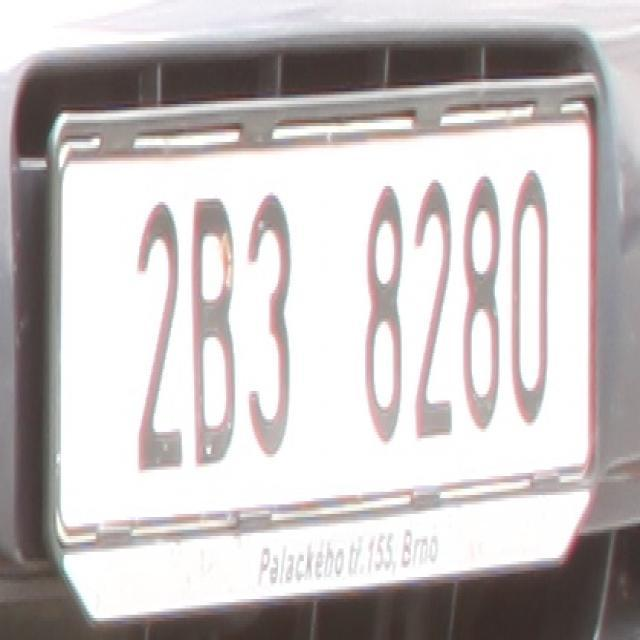0: (508, 161, 548, 429)
2: (136, 192, 185, 470), (417, 186, 452, 448)
3: (249, 192, 289, 457)
8: (462, 167, 499, 435), (365, 186, 403, 441)
B: (192, 196, 238, 467)
